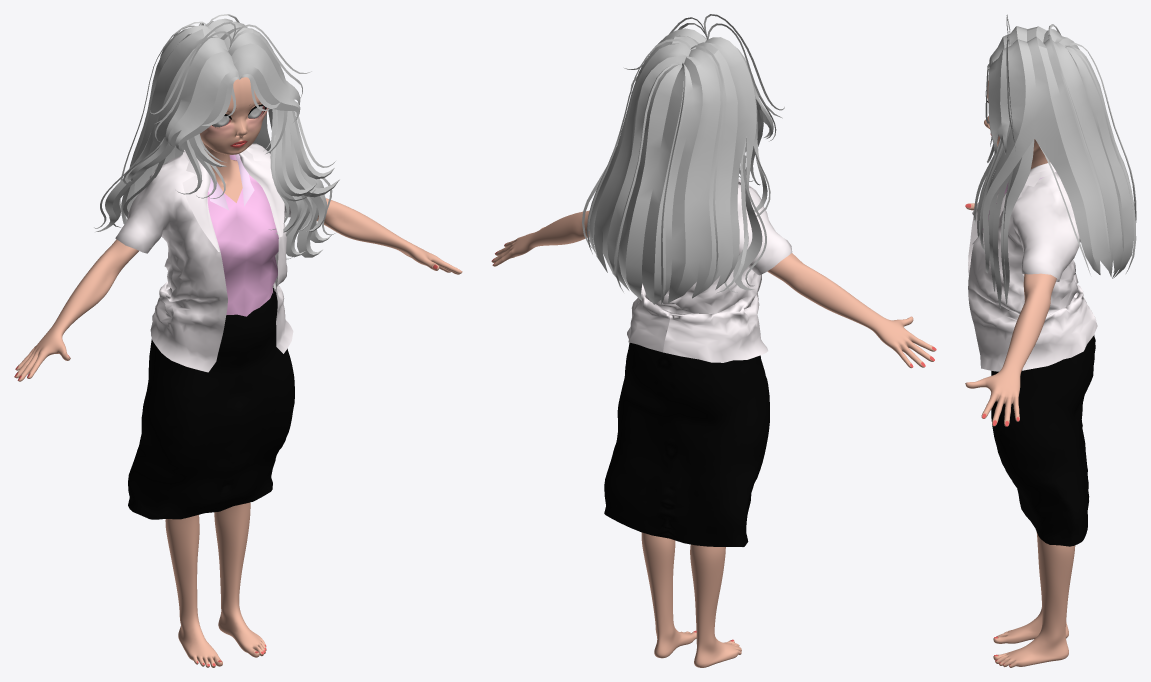
The model's file is Linda (Mother) Shape Keys.fbx.
3 renders of one model, left to right at view 1: azimuth 30°, elevation 25°; view 2: azimuth 150°, elevation 25°; view 3: azimuth 270°, elevation 25°, orthographic.
Visible parts, largest first — view 1: Cloth Outer celana, Hair, Head Ear Uv, Cloth Baju; view 2: Cloth Outer celana, Hair, Head Ear Uv; view 3: Cloth Outer celana, Hair, Head Ear Uv.
Boxes of the visible parts, box(x1,y1,x2,y2) form: Cloth Outer celana: box(115, 143, 294, 519); Hair: box(94, 14, 339, 259); Head Ear Uv: box(14, 77, 462, 667); Cloth Baju: box(207, 154, 278, 316); Cloth Outer celana: box(604, 179, 792, 546); Hair: box(582, 14, 784, 304); Head Ear Uv: box(491, 210, 936, 667); Cloth Outer celana: box(968, 162, 1097, 546); Hair: box(974, 14, 1136, 308); Head Ear Uv: box(965, 79, 1075, 667).
Bounding box in the file's own units: 145 × 199 × 48.95.
